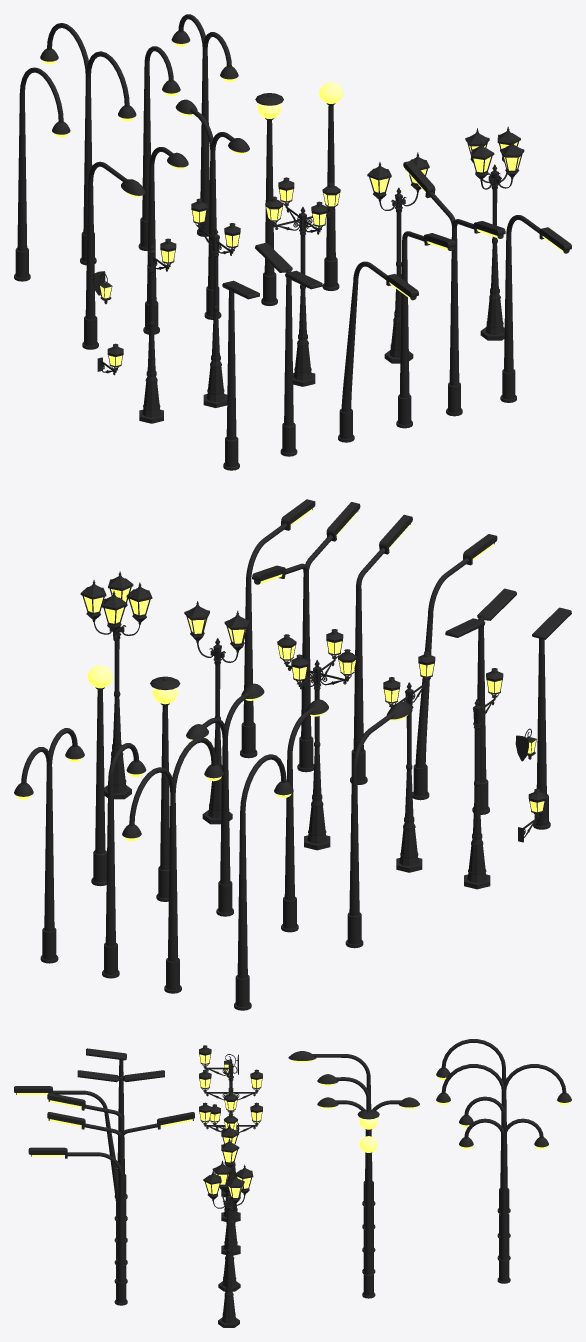
File: street_low_poly_street_lights_v3.fbx
3 views of the same model, one above another, from view 1: azimuth 30°, elevation 25°; view 2: azimuth 150°, elevation 25°; view 3: azimuth 270°, elevation 25° (orthographic). The views are drawn at different scales.
Visible parts, largest first — view 1: FarolaDe1.006, FarolaDe4, FarolaModernaRodonaDe1.006, FarolaModernaRodonaDe1.008, FarolaModernaDe2, FarolaDe1.001, FarolaModernaRodonaDe1.005, FarolaModernaRodonaDe1.009, FarolaModernaRodonaDe1.003, FarolaDe2, FarolaModernaRodonaDe1.002, FarolaModernaRodonaDe1.004 (+8 smaller); view 2: FarolaDe4, FarolaDe1.006, FarolaModernaRodonaDe1.008, FarolaModernaRodonaDe1.009, FarolaModernaRodonaDe1.006, FarolaModernaRodonaDe1.005, FarolaDe2, FarolaModernaRodonaDe2, FarolaDe1.001, FarolaModernaRodonaDe1.007, FarolaModernaRodonaDe1.001, FarolaModernaRodonaDe1.004 (+8 smaller); view 3: FarolaDe4, FarolaModernaRodonaDe1.009, FarolaModernaRodonaDe1.003, FarolaModernaRodonaDe1.006, FarolaModernaRodonaDe1.008, FarolaDe1.006, FarolaModernaBola, FarolaModernaRodonaDe1.002, FarolaModernaDe2, FarolaDe2, FarolaDe1.001, FarolaModernaRodonaDe1.005 (+8 smaller).
Boxes of the visible parts, x1,y1,x2,y2 form: FarolaDe1.006: (265, 177, 340, 386); FarolaDe4: (465, 126, 524, 340); FarolaModernaRodonaDe1.006: (403, 160, 505, 416); FarolaModernaRodonaDe1.008: (40, 23, 136, 265); FarolaModernaDe2: (255, 242, 322, 456); FarolaDe1.001: (191, 198, 240, 407); FarolaModernaRodonaDe1.005: (14, 67, 70, 281); FarolaModernaRodonaDe1.009: (171, 14, 238, 236); FarolaModernaRodonaDe1.003: (500, 215, 571, 402); FarolaDe2: (367, 152, 429, 363); FarolaModernaRodonaDe1.002: (338, 261, 418, 442); FarolaModernaRodonaDe1.004: (396, 231, 455, 428); FarolaDe4: (80, 571, 152, 799); FarolaDe1.006: (277, 629, 356, 850); FarolaModernaRodonaDe1.008: (122, 737, 223, 993); FarolaModernaRodonaDe1.009: (14, 728, 84, 963); FarolaModernaRodonaDe1.006: (252, 502, 360, 772); FarolaModernaRodonaDe1.005: (234, 754, 293, 1010); FarolaDe2: (184, 601, 249, 824); FarolaModernaRodonaDe2: (186, 683, 264, 916); FarolaDe1.001: (383, 651, 435, 872); FarolaModernaRodonaDe1.007: (102, 743, 146, 978); FarolaModernaRodonaDe1.001: (345, 702, 412, 948); FarolaModernaRodonaDe1.004: (350, 514, 412, 784); FarolaDe4: (203, 1160, 253, 1327); FarolaModernaRodonaDe1.009: (459, 1118, 548, 1283); FarolaModernaRodonaDe1.003: (28, 1147, 127, 1305); FarolaModernaRodonaDe1.006: (47, 1112, 194, 1283); FarolaModernaRodonaDe1.008: (436, 1064, 571, 1237); FarolaDe1.006: (199, 1092, 262, 1255); FarolaModernaBola: (359, 1136, 377, 1298); FarolaModernaRodonaDe1.002: (14, 1086, 127, 1242); FarolaModernaDe2: (77, 1070, 164, 1220); FarolaDe2: (218, 1124, 240, 1291); FarolaDe1.001: (199, 1069, 262, 1221); FarolaModernaRodonaDe1.005: (436, 1039, 510, 1213).
Size of the model in its own units: 11.18 by 3.81 by 7.62.
